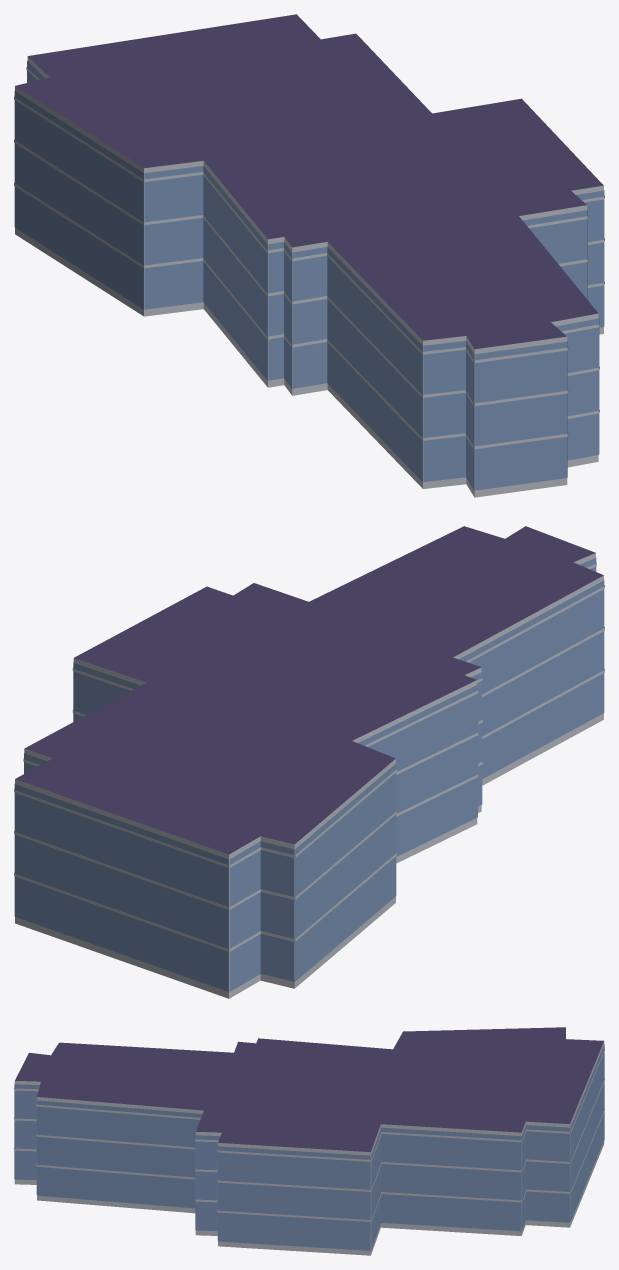
File: core-western-student-services-building-day.glb
3 renders of one model, top to bottom at view 1: azimuth 30°, elevation 25°; view 2: azimuth 150°, elevation 25°; view 3: azimuth 270°, elevation 25°, orthographic. The views are drawn at different scales.
Parts seen in each view (by area): view 1: campus/core-western-student-services-building-day-0; view 2: campus/core-western-student-services-building-day-0; view 3: campus/core-western-student-services-building-day-0.
Part boxes in pixels (left/top/right/bottom): campus/core-western-student-services-building-day-0: left=14, top=14, right=604, bottom=497; campus/core-western-student-services-building-day-0: left=14, top=526, right=604, bottom=998; campus/core-western-student-services-building-day-0: left=14, top=1027, right=604, bottom=1255.
Size of the model in its own units: 32.28 by 12.4 by 64.15.
